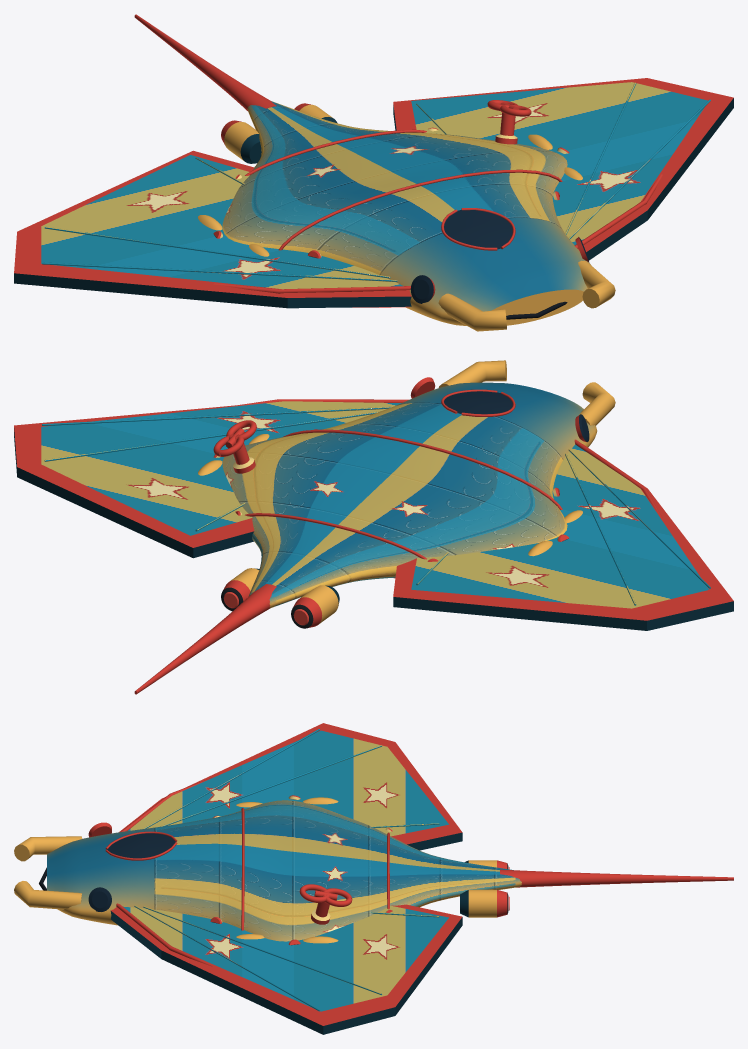
3 renders of one model, top to bottom at view 1: azimuth 30°, elevation 25°; view 2: azimuth 150°, elevation 25°; view 3: azimuth 270°, elevation 25°, orthographic. The views are drawn at different scales.
Parts seen in each view (by area): view 1: manta_ray_hull; view 2: manta_ray_hull; view 3: manta_ray_hull.
Boxes of the visible parts, x1,y1,x2,y2 form: manta_ray_hull: [14, 14, 733, 331]; manta_ray_hull: [14, 360, 733, 694]; manta_ray_hull: [14, 723, 733, 1034].
Size of the model in its own units: 81.66 by 10.57 by 82.
Materials: 1 (1 with a texture image).
